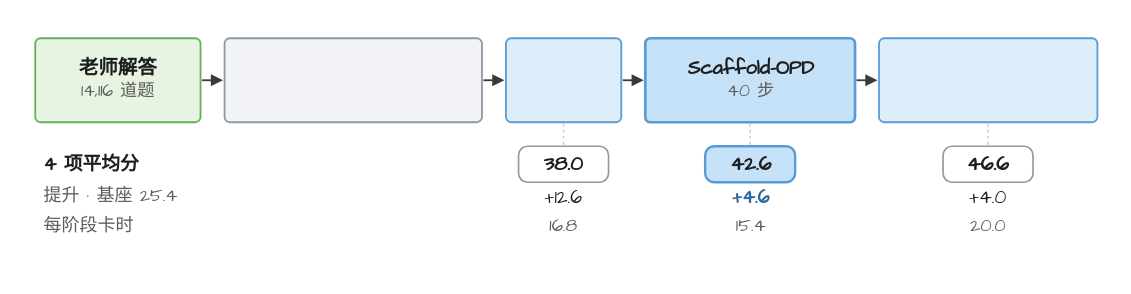
This 1131x294 diagram has some shape labels left out. Each missing label, with the centre of its shape:
"SFT 1 轮" belongs at (562,79).
"拒绝采样 保留 11,158 条（79%）" belongs at (352,79).
"错题回流 GRPO 2,212 道题 · 30 步" belongs at (987,79).
